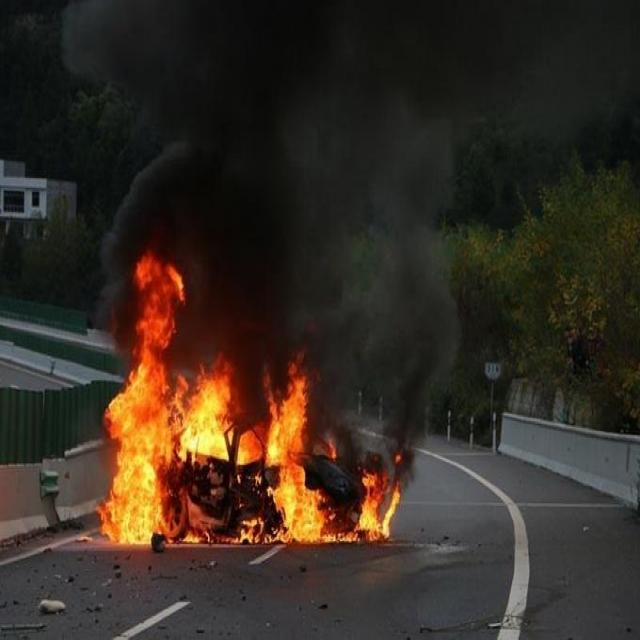fire: (92, 250, 402, 544)
